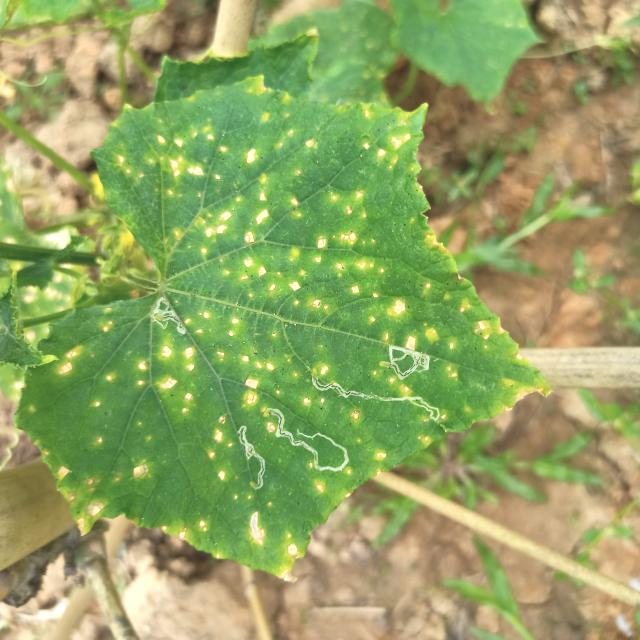disease_cucumber: (109, 82, 527, 360), (55, 310, 397, 576)
